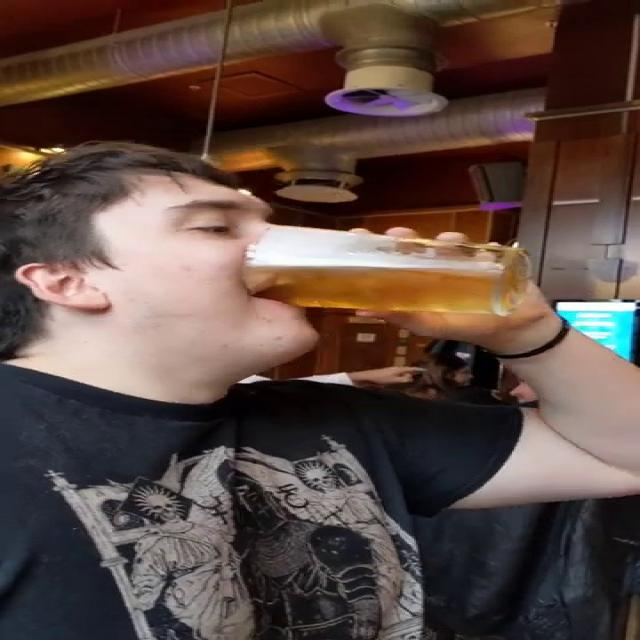Cup: (241, 225, 530, 315)
Hand: (342, 219, 566, 348)
Mouth: (230, 269, 317, 320)
